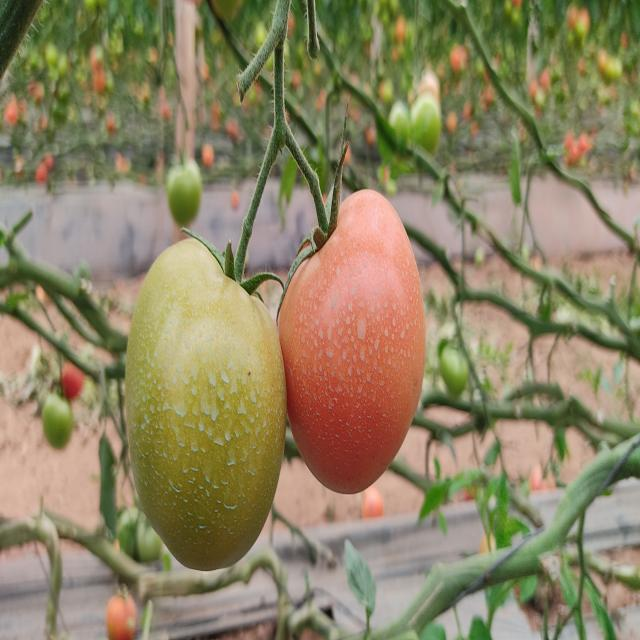Ripe Tomato: (297, 151, 428, 484), (106, 592, 132, 640), (62, 364, 92, 402), (529, 464, 554, 492), (353, 494, 382, 516), (88, 73, 111, 95), (31, 161, 49, 184), (452, 52, 471, 72), (570, 148, 582, 162)
Unripe Tomato: (121, 243, 292, 569), (438, 332, 476, 398), (410, 96, 445, 164), (42, 393, 78, 453), (168, 154, 202, 216), (382, 86, 410, 140), (119, 512, 149, 548), (129, 526, 159, 556), (604, 60, 628, 84)
